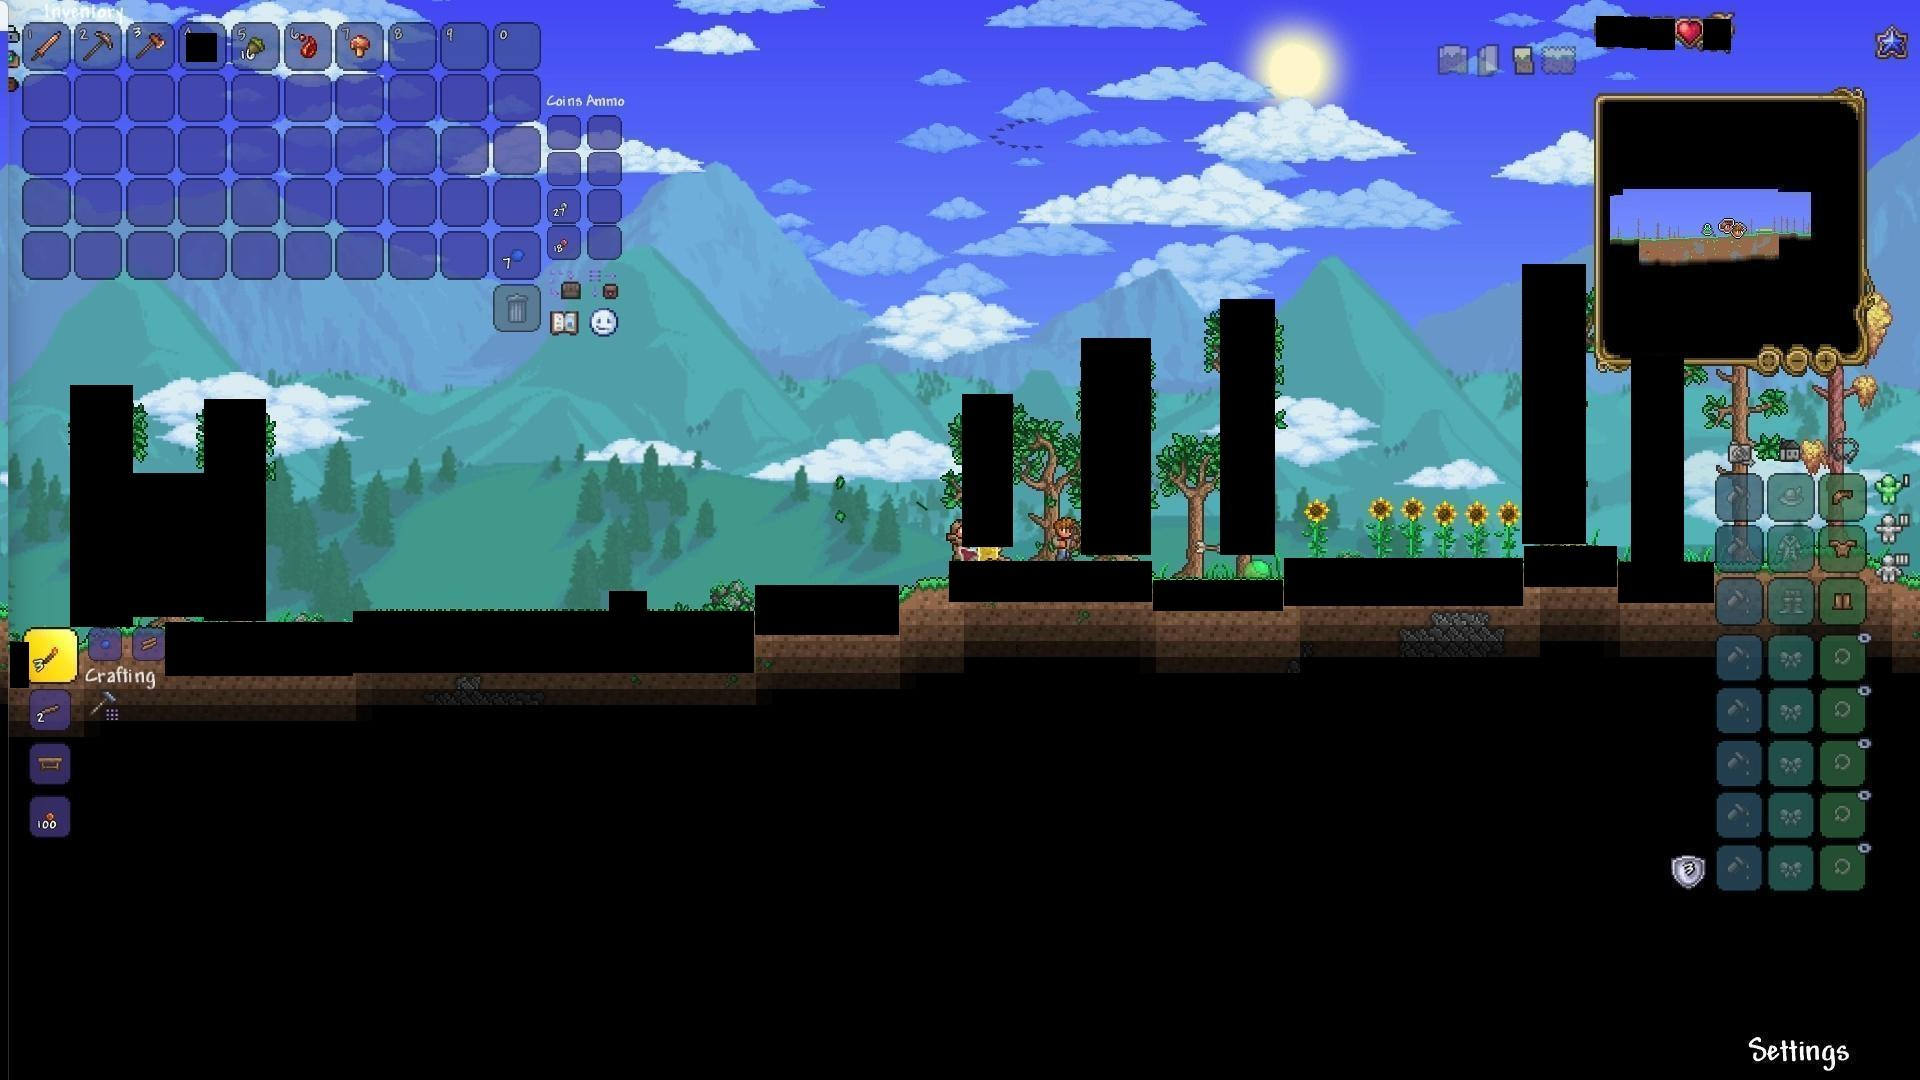breastplate: (1832, 537, 1859, 558)
dirt: (902, 564, 948, 616)
heart: (1677, 18, 1704, 49)
helmet: (1832, 484, 1858, 508)
legs: (1832, 588, 1857, 615)
slime: (1240, 558, 1274, 583)
tree: (1015, 415, 1087, 556), (1156, 429, 1222, 576)
wood: (135, 628, 165, 655)
workbench: (32, 749, 70, 775)
